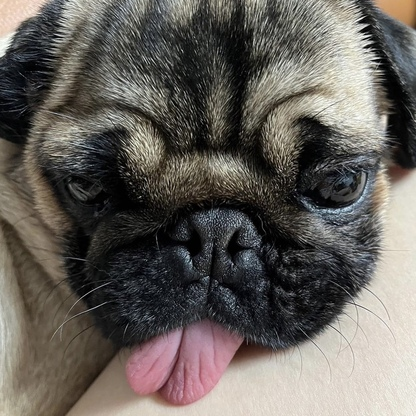Pug: (1, 1, 409, 416)
